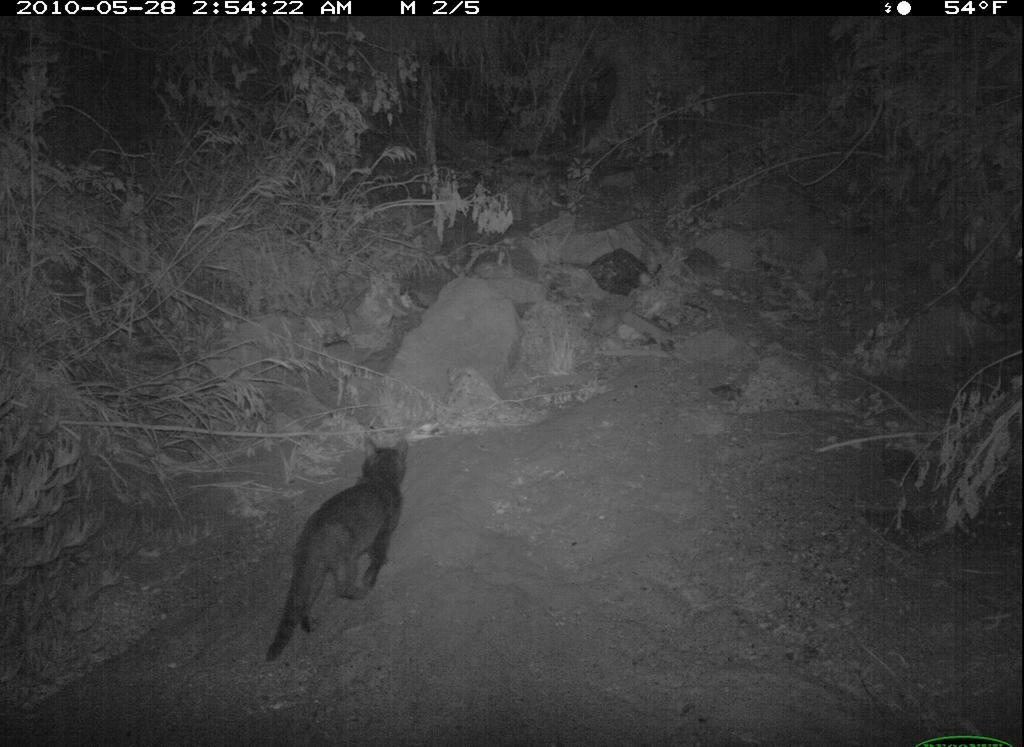cat: (260, 434, 413, 666)
